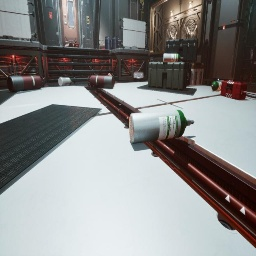0: (129, 110, 194, 144), (163, 53, 184, 62), (211, 80, 224, 91), (58, 77, 72, 86)
EmergencyPhone ,: (86, 14, 89, 24)
FireAlarm ,: (49, 12, 52, 19)
FireExtinguisher ]: (106, 71, 115, 86)
FirstAidBox ,: (221, 81, 247, 100), (133, 72, 144, 82), (73, 41, 79, 48)
NitrogenTank ,: (7, 76, 45, 92), (88, 75, 114, 89), (65, 42, 73, 47)
